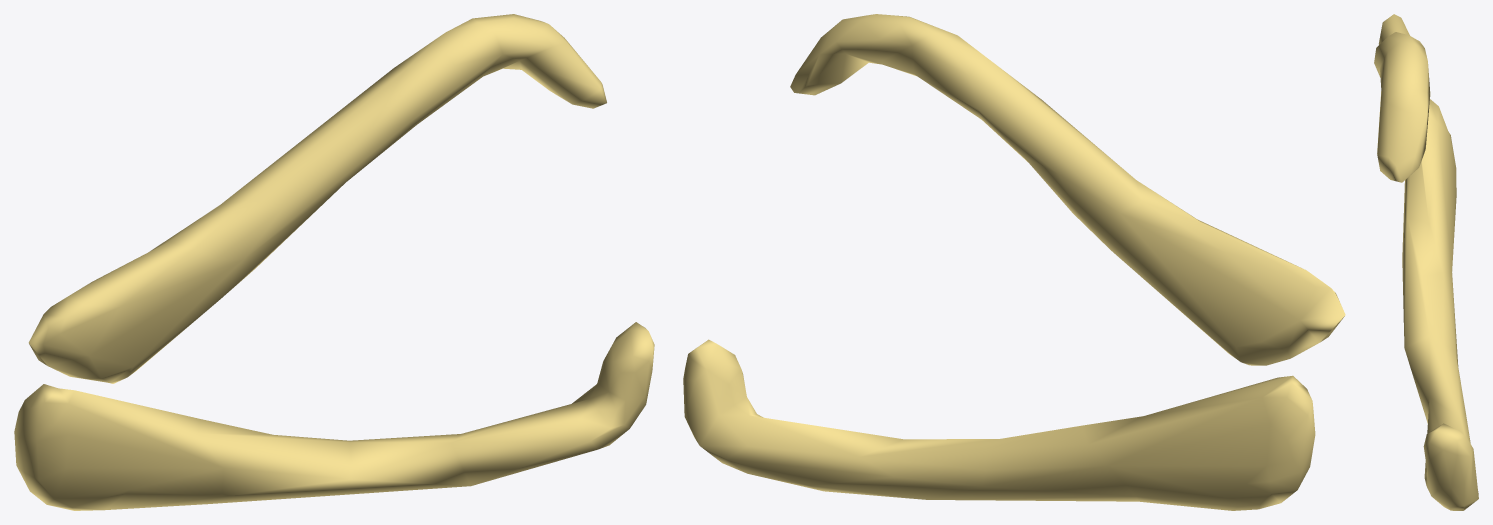
The picture shows the model from 3 angles, left to right: view 1: azimuth 30°, elevation 25°; view 2: azimuth 150°, elevation 25°; view 3: azimuth 270°, elevation 25°; orthographic projection. The views are drawn at different scales.
Visible parts, largest first — view 1: ZA_2f730d89d6911e60; view 2: ZA_2f730d89d6911e60; view 3: ZA_2f730d89d6911e60.
Part boxes in pixels (bbox=[...]): ZA_2f730d89d6911e60: bbox=[14, 14, 654, 510]; ZA_2f730d89d6911e60: bbox=[683, 14, 1345, 510]; ZA_2f730d89d6911e60: bbox=[1374, 14, 1478, 510].
Bounding box in the file's own units: 0.00706 × 0.00501 × 0.00116.
